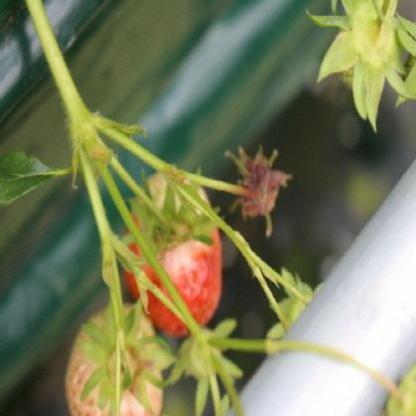Strawberry_Gray_Mold: (226, 144, 295, 239)
